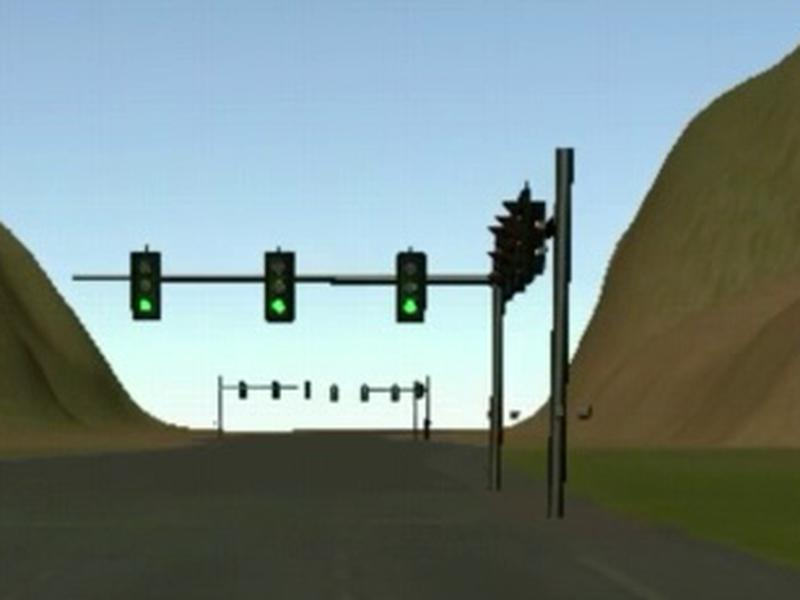Green: (265, 250, 295, 321), (130, 252, 161, 320), (398, 252, 427, 322)
